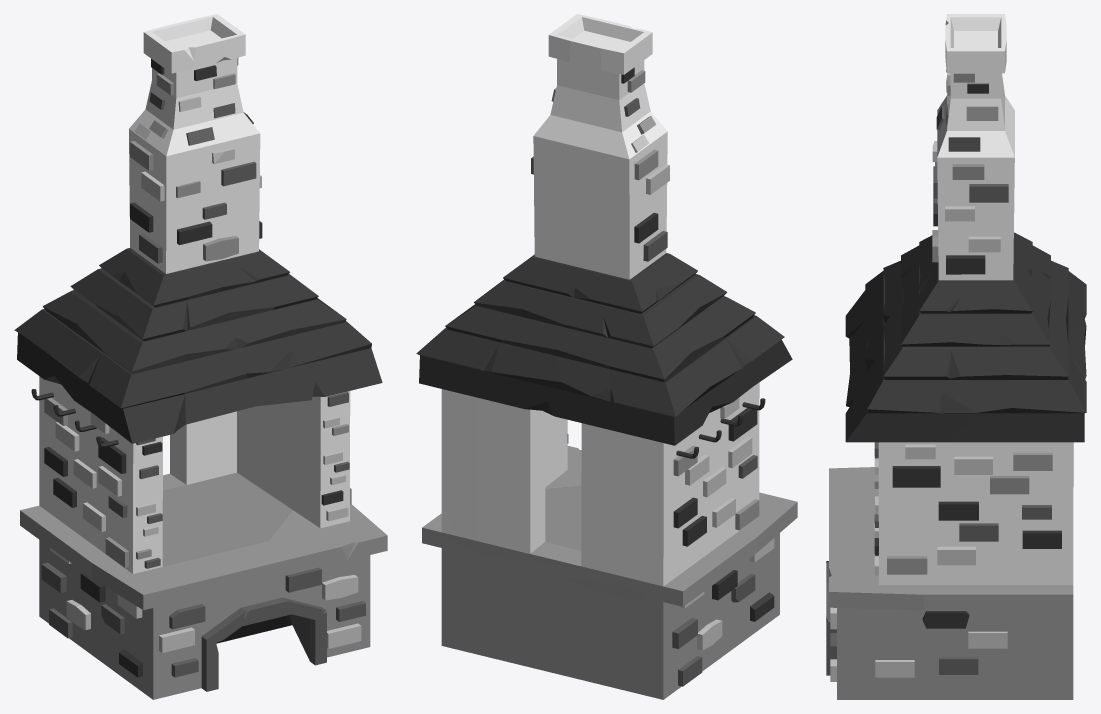
File: forge_furnace.glb
3 renders of one model, left to right at view 1: azimuth 30°, elevation 25°; view 2: azimuth 150°, elevation 25°; view 3: azimuth 270°, elevation 25°, orthographic. The views are drawn at different scales.
Visible parts, largest first — view 1: PP_Furnace_01; view 2: PP_Furnace_01; view 3: PP_Furnace_01.
Boxes of the visible parts, x1,y1,x2,y2 form: PP_Furnace_01: (14,14,387,699); PP_Furnace_01: (416,14,797,699); PP_Furnace_01: (826,14,1086,699).
Size of the model in its own units: 2.55 by 5.6 by 2.16.
1 material, 1 textured.
